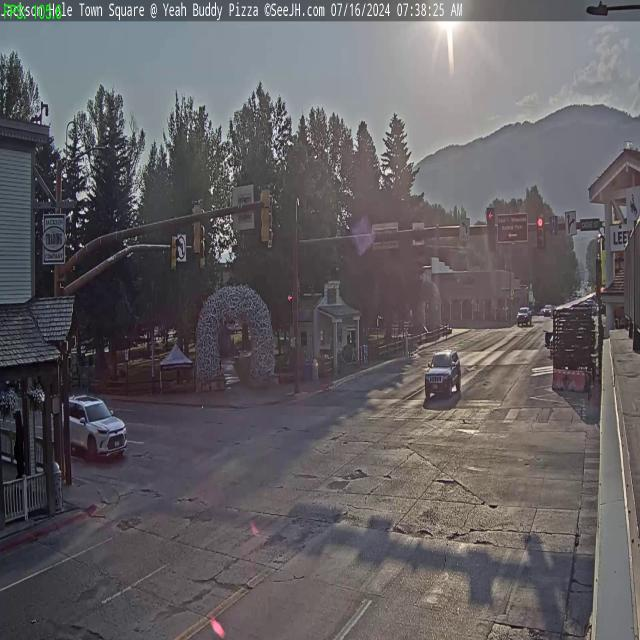pickup: (516, 306, 532, 326)
suv: (66, 392, 127, 462), (424, 348, 461, 399)
traffic light: (260, 188, 271, 244), (192, 203, 202, 254), (486, 206, 496, 251), (536, 216, 544, 249), (170, 235, 177, 270), (486, 207, 494, 227)
